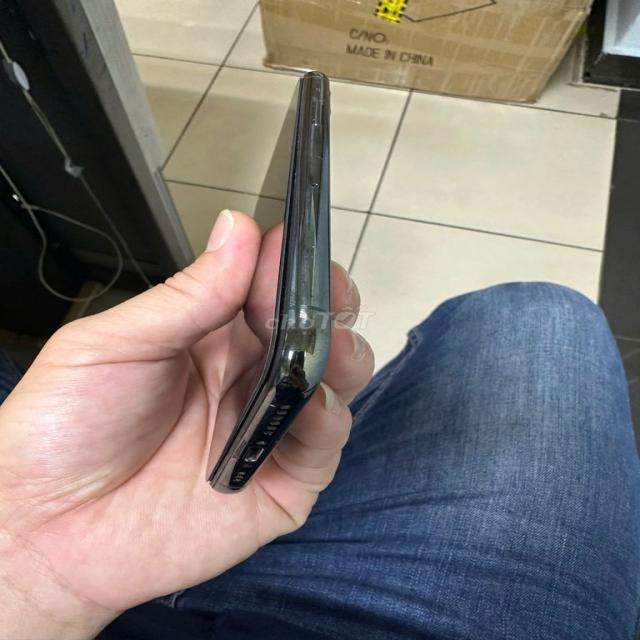gen_11: (198, 63, 360, 475)
scratch: (293, 75, 341, 115)
